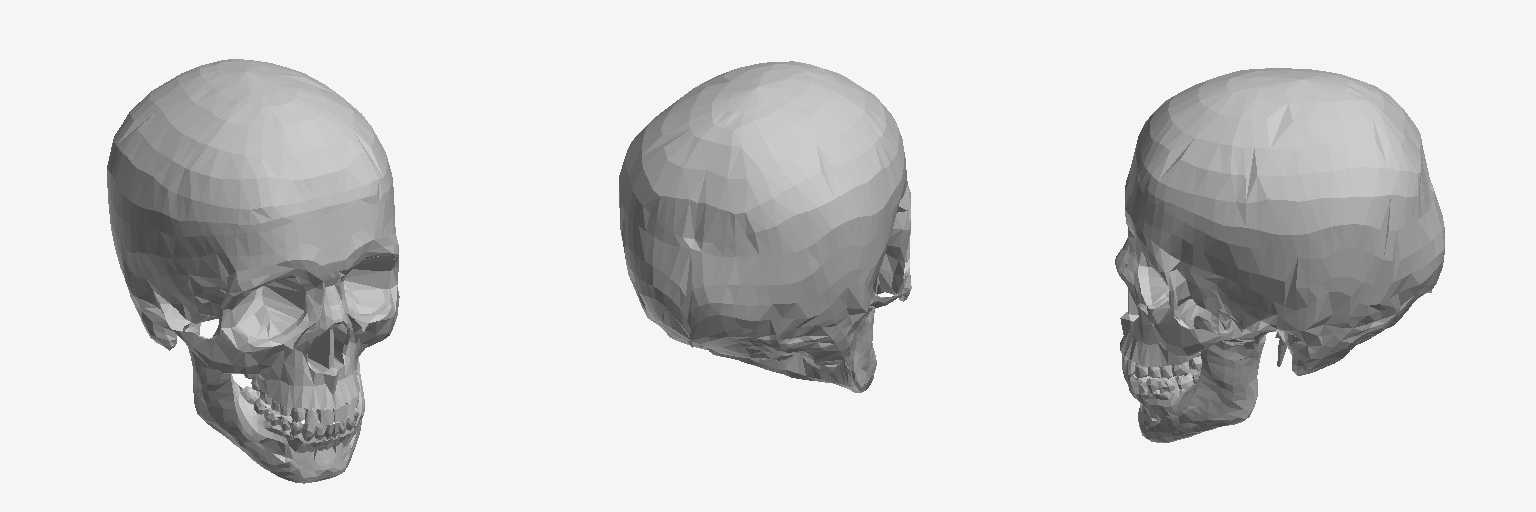
File: skull3.obj
The picture shows the model from 3 angles: view 1: azimuth 30°, elevation 25°; view 2: azimuth 150°, elevation 25°; view 3: azimuth 270°, elevation 25°; orthographic projection.
Visible parts, largest first — view 1: skull01; view 2: skull01; view 3: skull01.
Boxes of the visible parts, <box> form: skull01: <box>107,59,399,483</box>; skull01: <box>619,61,911,392</box>; skull01: <box>1115,68,1444,442</box>.
Size of the model in its own units: 6.2 by 8.85 by 7.51.